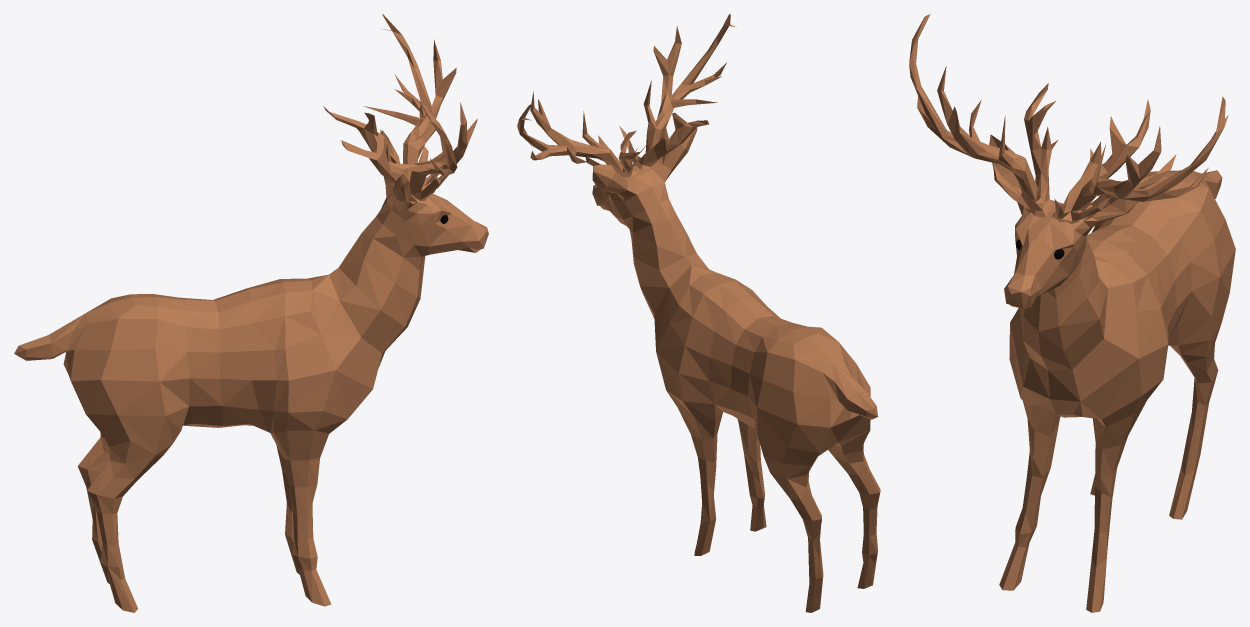
File: Deer.FBX
The picture shows the model from 3 angles, left to right: view 1: azimuth 30°, elevation 25°; view 2: azimuth 150°, elevation 25°; view 3: azimuth 270°, elevation 25°; orthographic projection. The views are drawn at different scales.
Parts seen in each view (by area): view 1: node_id6; view 2: node_id6; view 3: node_id6.
Part boxes in pixels (x1,y1,x2,y2): node_id6: [14, 14, 488, 612]; node_id6: [517, 14, 880, 612]; node_id6: [909, 14, 1235, 612].
Size of the model in its own units: 0.1667 by 0.2056 by 0.0986.
Materials: 3 (2 with a texture image).
